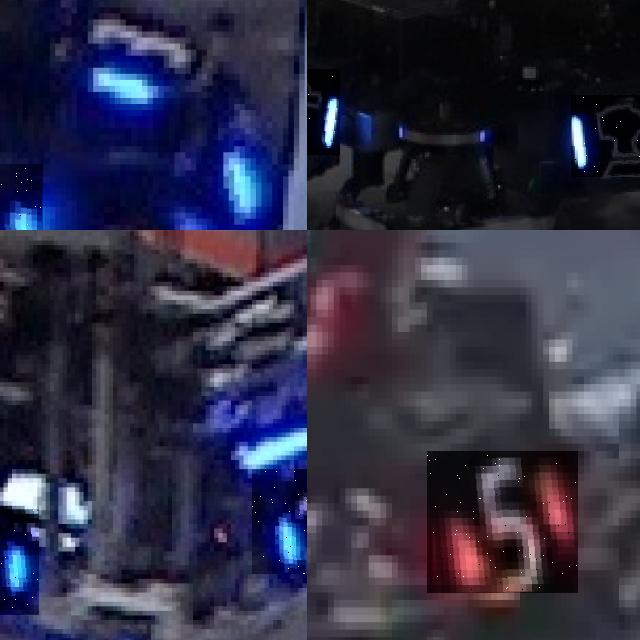B2: (251, 469, 307, 574), (0, 505, 39, 615)
Bs: (571, 95, 640, 176), (307, 69, 340, 154)
R5: (427, 451, 578, 593)
